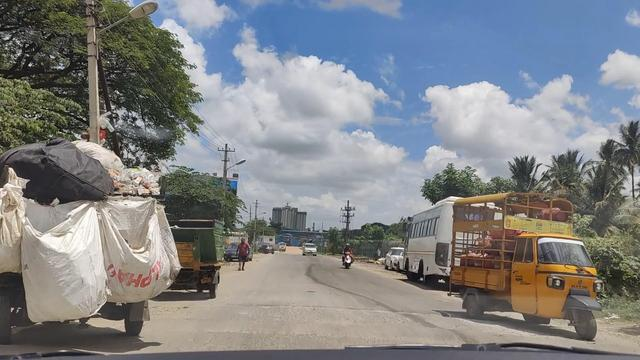HMV: (5, 146, 169, 350), (453, 201, 620, 349)
RoadDamages: (213, 322, 430, 347)
